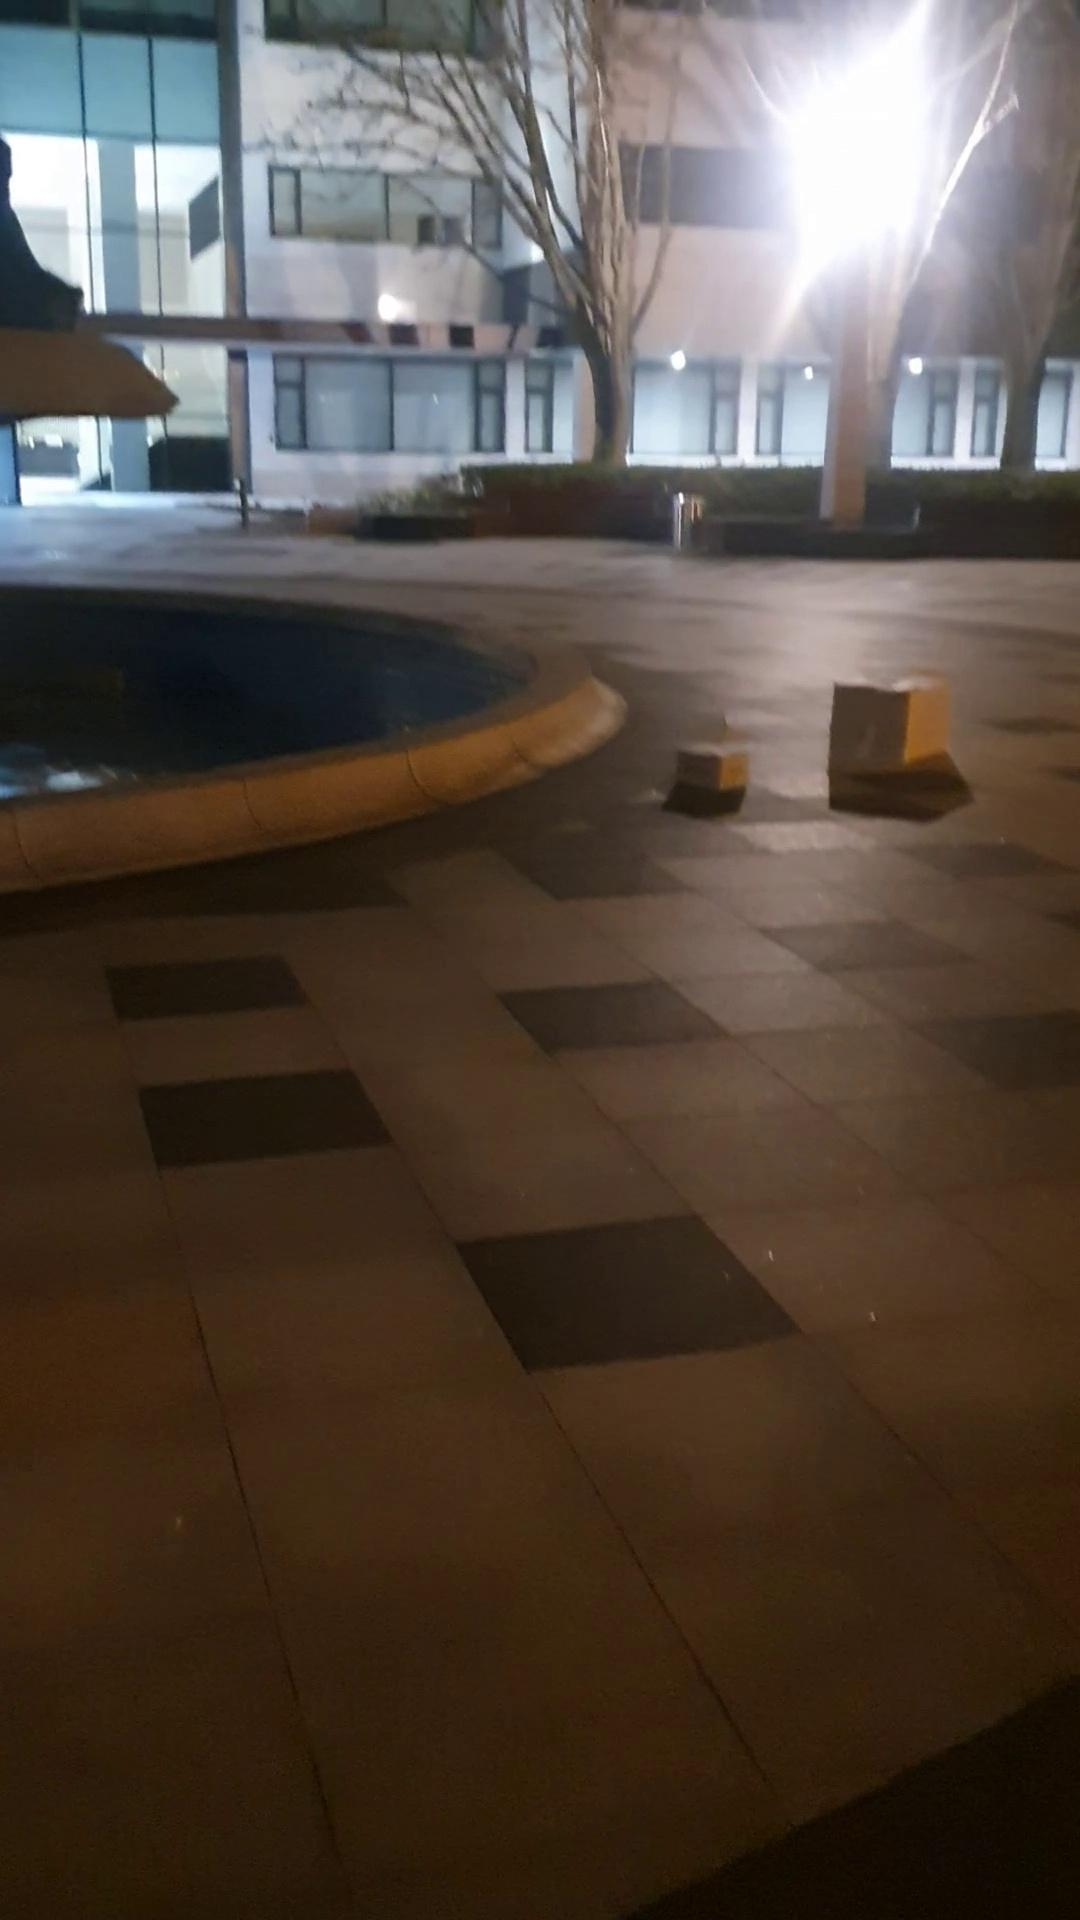Box: (823, 670, 957, 790), (671, 738, 752, 795)
